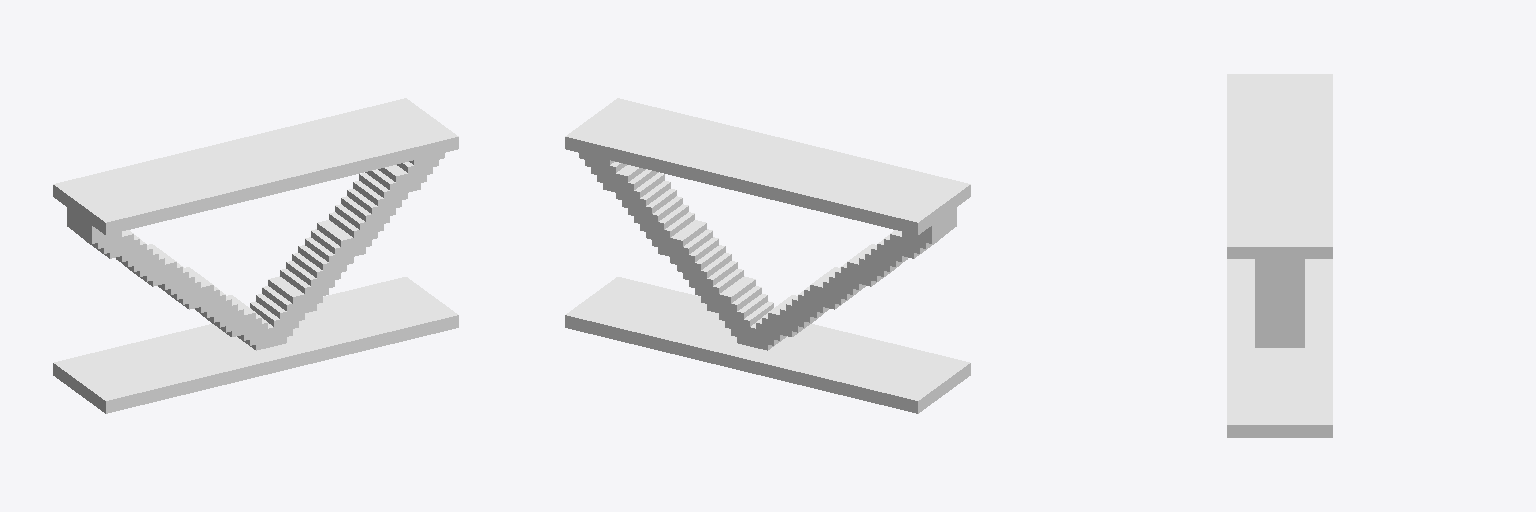
File: poutre2x1.obj
The picture shows the model from 3 angles: view 1: azimuth 30°, elevation 25°; view 2: azimuth 150°, elevation 25°; view 3: azimuth 270°, elevation 25°; orthographic projection.
Size of the model in its own units: 58 by 30 by 15.